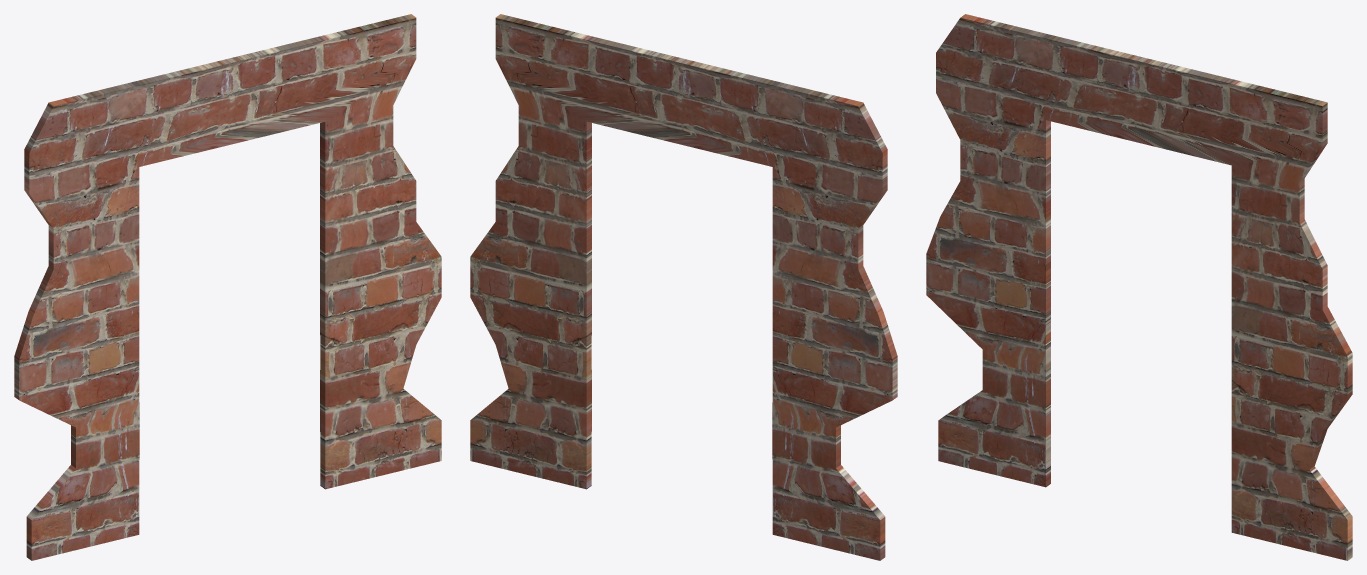
Rendered from tutorial_doorwall.FBX.
3 renders of one model, left to right at view 1: azimuth 30°, elevation 25°; view 2: azimuth 150°, elevation 25°; view 3: azimuth 330°, elevation 25°, orthographic.
Parts seen in each view (by area): view 1: Object321321314; view 2: Object321321314; view 3: Object321321314.
Part boxes in pixels (x1,y1,x2,y2): Object321321314: (14,14,441,560); Object321321314: (470,14,897,560); Object321321314: (926,14,1352,560).
Bounding box in the file's own units: 253 × 257 × 5.25.
